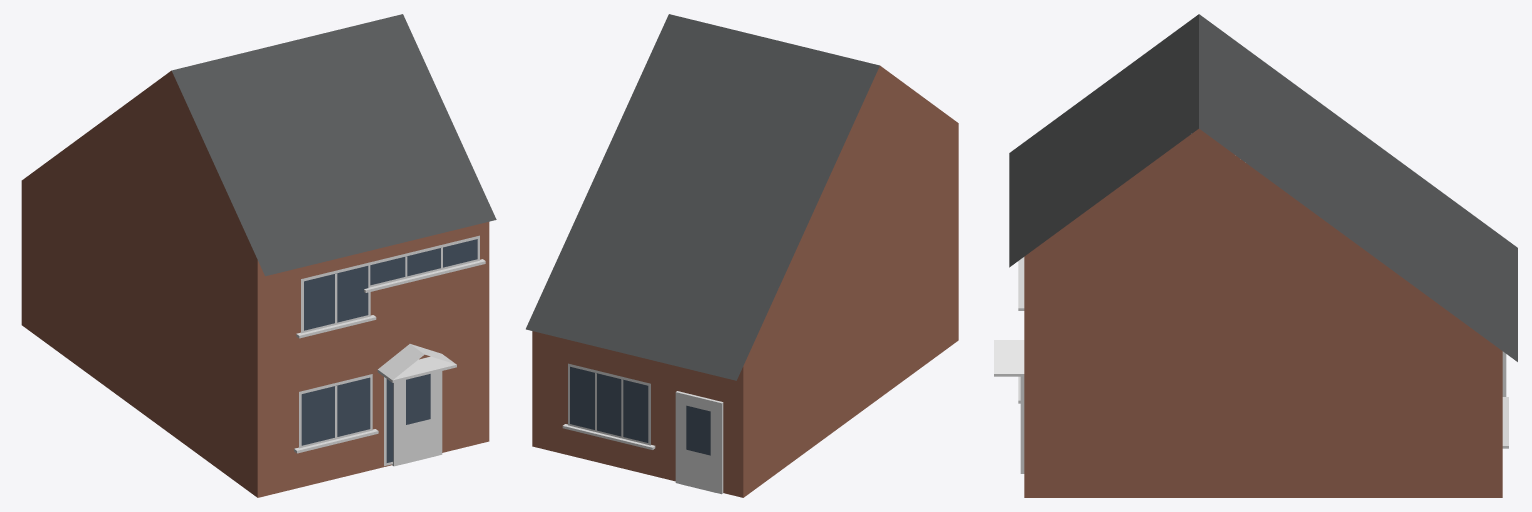
The model's file is zo-ho-hood__white-frames__2__gable__long__solid__mirror.glb.
3 views of the same model, side by side, from view 1: azimuth 30°, elevation 25°; view 2: azimuth 150°, elevation 25°; view 3: azimuth 270°, elevation 25° (orthographic). The views are drawn at different scales.
Visible parts, largest first — view 1: zo-ho-hood__white-frames__2__gable__long__solid__mirror; view 2: zo-ho-hood__white-frames__2__gable__long__solid__mirror; view 3: zo-ho-hood__white-frames__2__gable__long__solid__mirror.
Boxes of the visible parts, x1=… form: zo-ho-hood__white-frames__2__gable__long__solid__mirror: x1=21, y1=14, x2=496, y2=497; zo-ho-hood__white-frames__2__gable__long__solid__mirror: x1=526, y1=14, x2=958, y2=497; zo-ho-hood__white-frames__2__gable__long__solid__mirror: x1=994, y1=14, x2=1517, y2=497.
Bounding box in the file's own units: 5.4 × 8.12 × 10.43.
